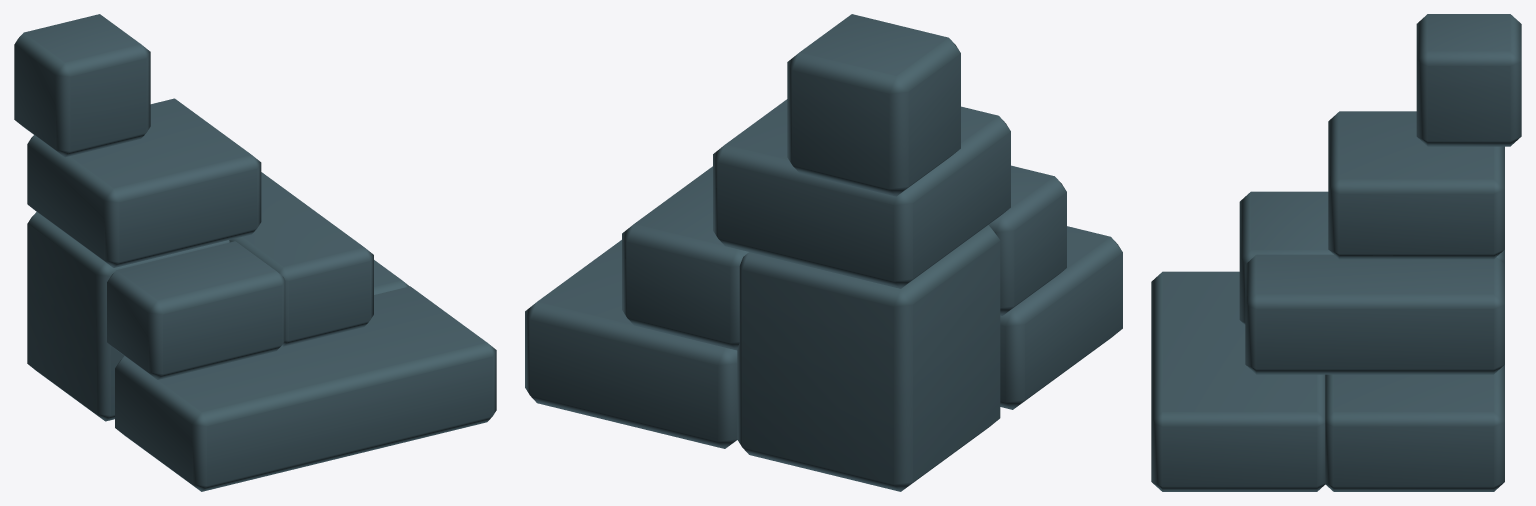
The model's file is stair_corner_convex_hue_2.fbx.
3 renders of one model, left to right at view 1: azimuth 30°, elevation 25°; view 2: azimuth 150°, elevation 25°; view 3: azimuth 270°, elevation 25°, orthographic. The views are drawn at different scales.
Parts seen in each view (by area): view 1: stair_corner_convex_hue_2; view 2: stair_corner_convex_hue_2; view 3: stair_corner_convex_hue_2.
Part boxes in pixels (x1,y1,x2,y2): stair_corner_convex_hue_2: (14, 14, 496, 491); stair_corner_convex_hue_2: (525, 14, 1122, 491); stair_corner_convex_hue_2: (1151, 14, 1521, 491).
Bounding box in the file's own units: 102 × 105 × 105.
